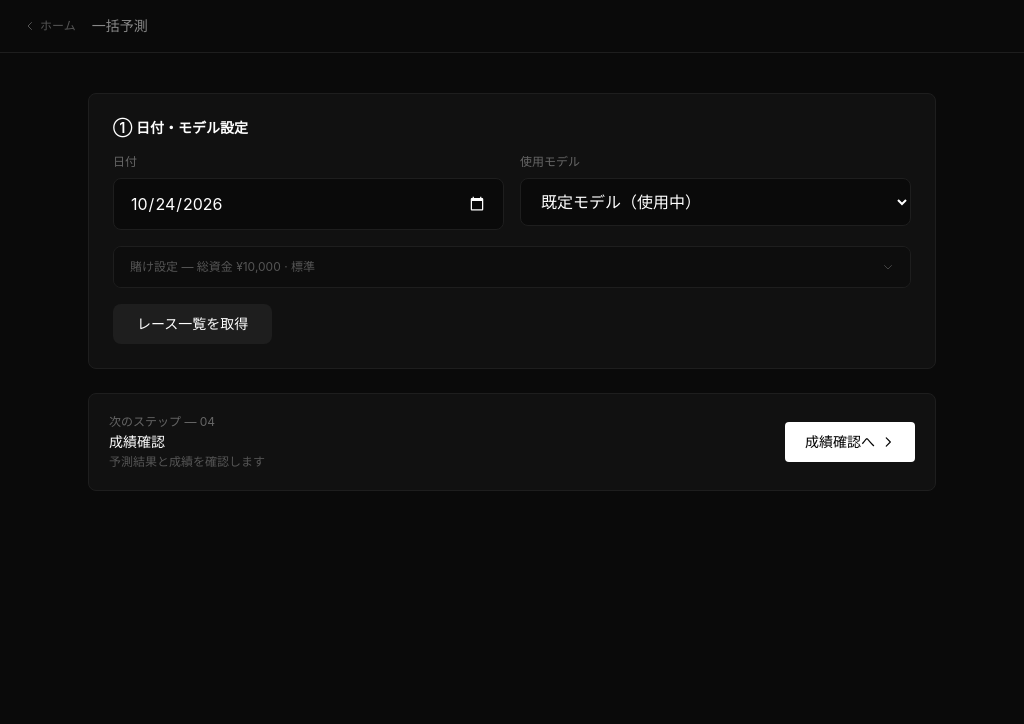
Test: batch betting settings › records only the final day allocation, including zero-ticket skips, once after prediction
Click the button "レース一覧を取得".
click(193, 324)  # box [113, 304, 272, 344]
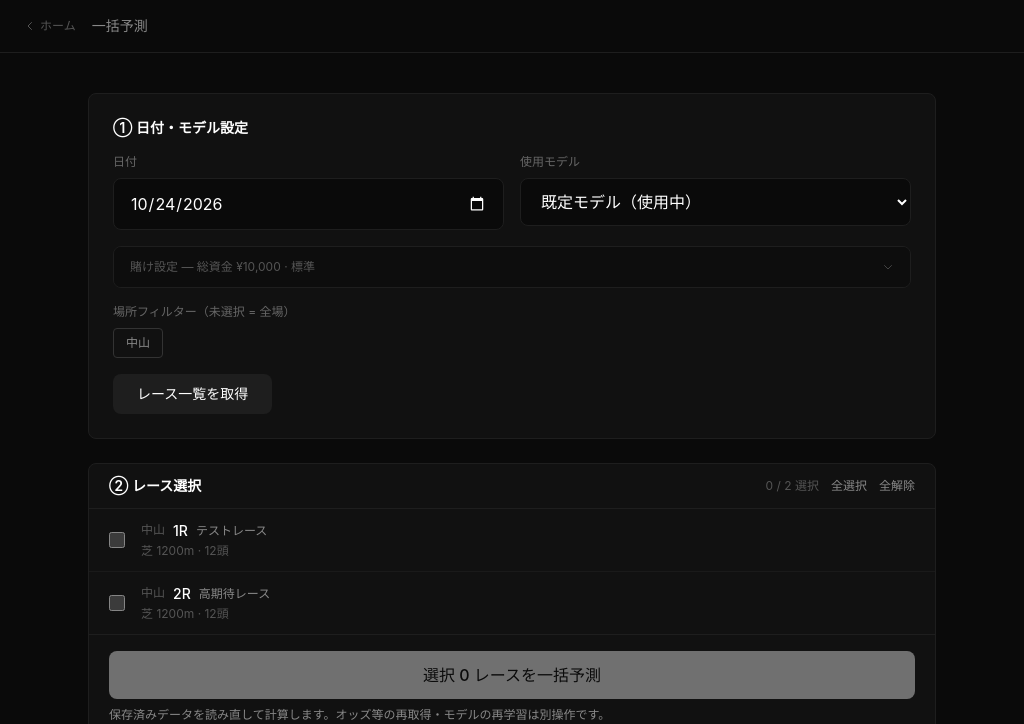
Now the text "高期待レース" is shown, box [199, 586, 270, 602]
Click the button "賭け設定 — 総資金 ¥10,000 · 標準".
click(186, 266)  # box [114, 247, 910, 287]
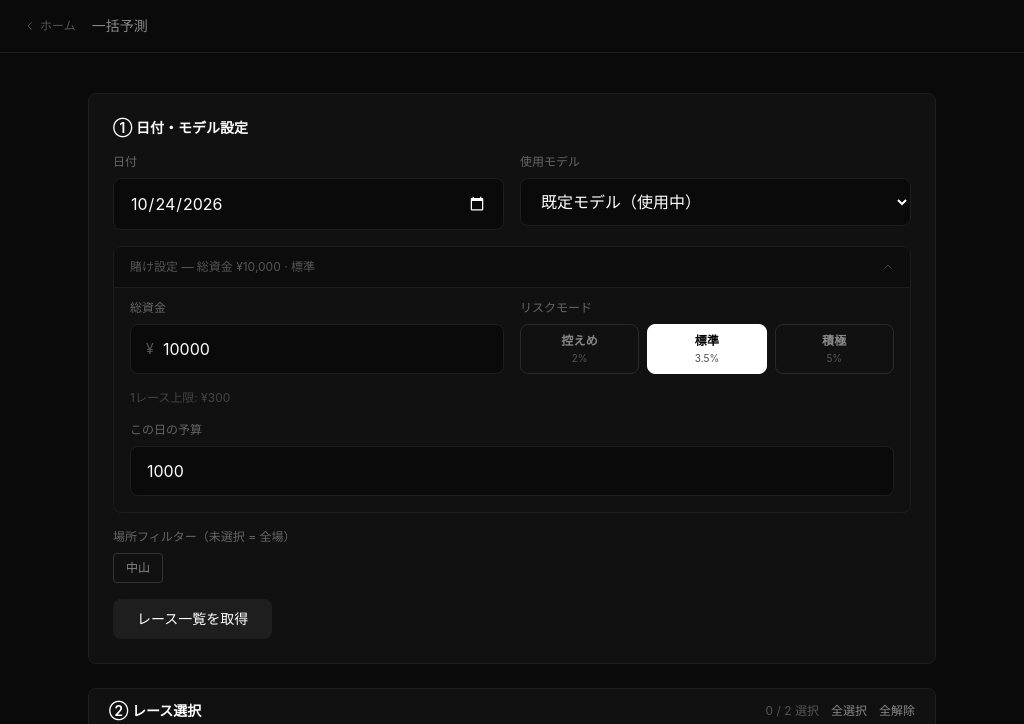
Replace the text in the number field labelled "この日の予算" with "100" at [512, 471], box [130, 446, 894, 496]
(page scrolled)
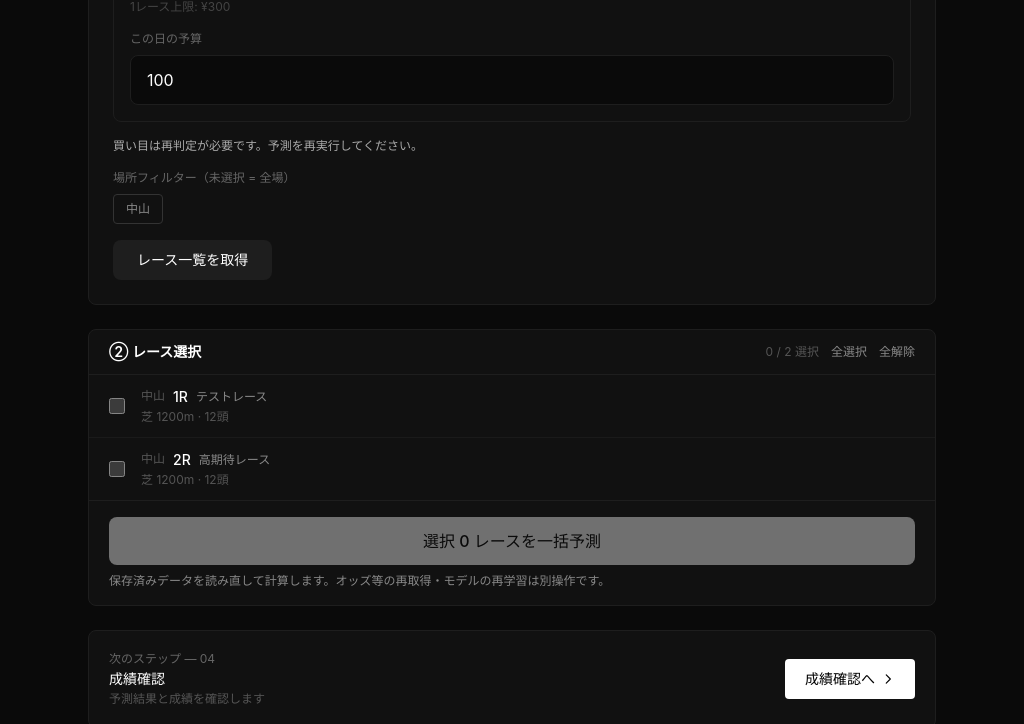
Click the checkbox labelled "中山 1R テストレース 芝 1200m · 12頭".
click(117, 406)  # box [109, 398, 125, 414]
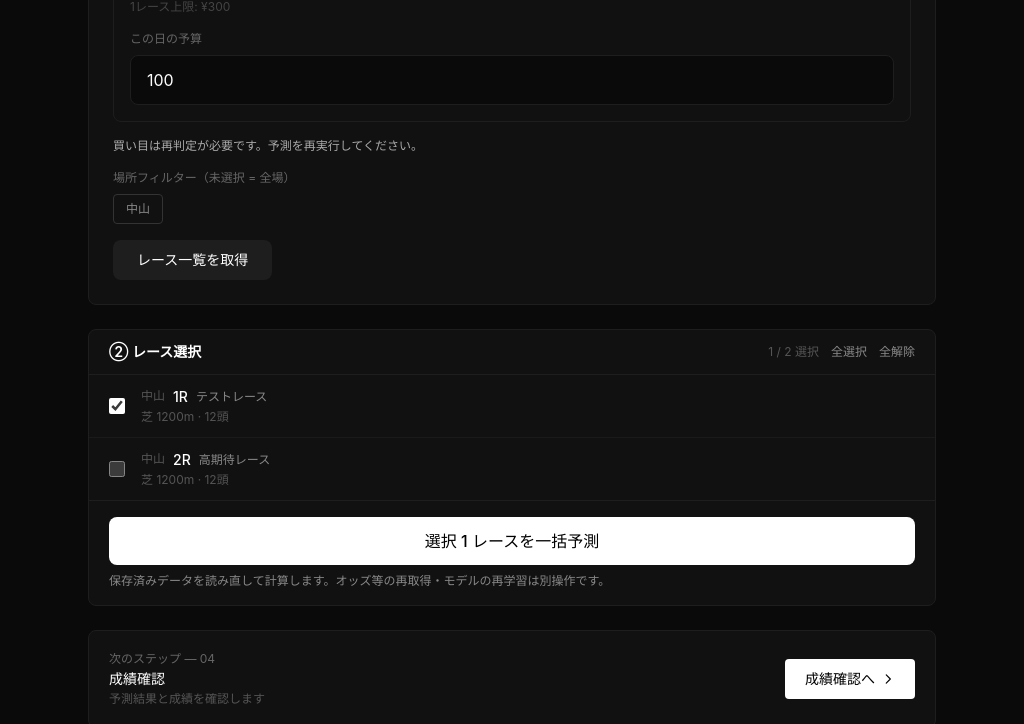
Click the checkbox labelled "中山 2R 高期待レース 芝 1200m · 12頭".
click(117, 469)  # box [109, 461, 125, 477]
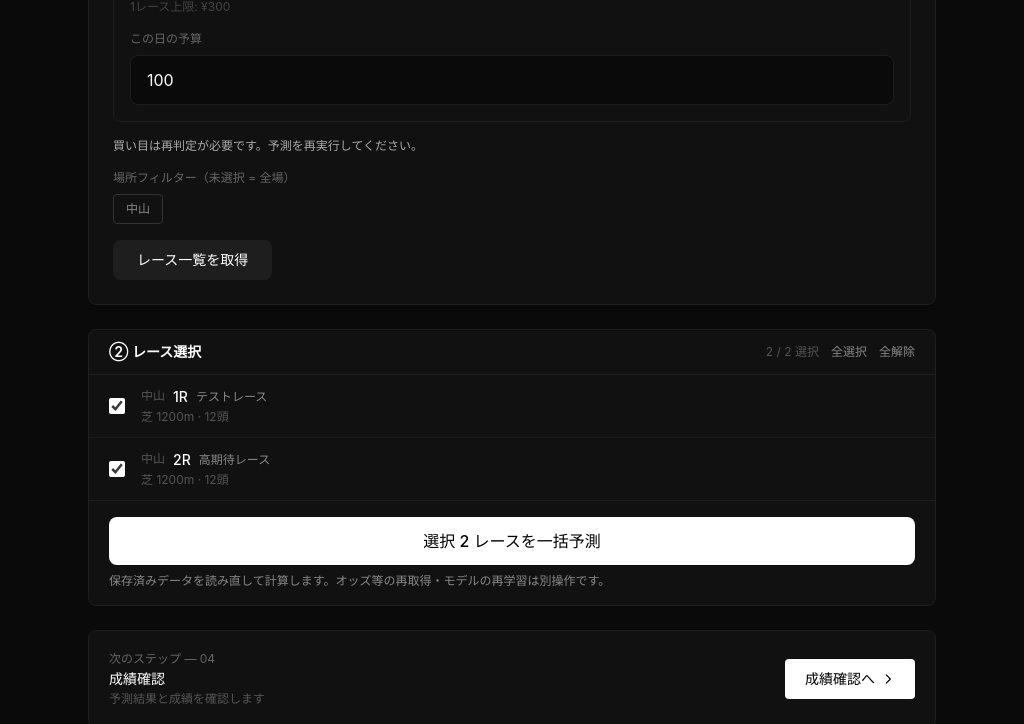
Click the button "選択 2 レースを一括予測".
click(512, 541)  # box [109, 517, 915, 565]
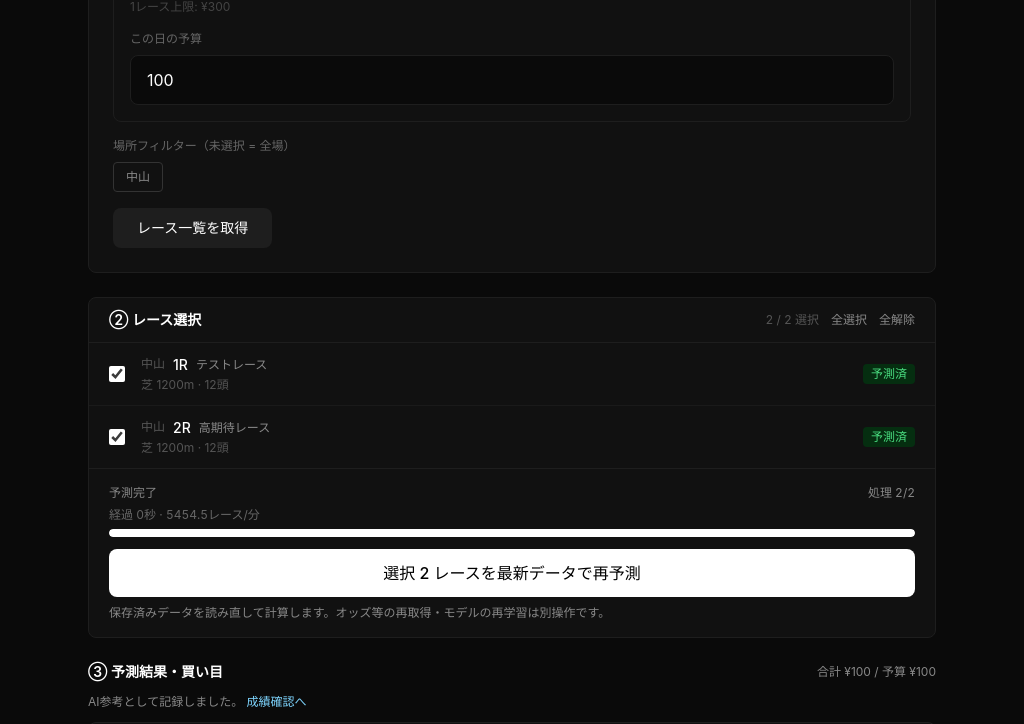
Now the text "AI参考として記録しました。 成績確認へ" is shown, box [88, 694, 306, 709]
